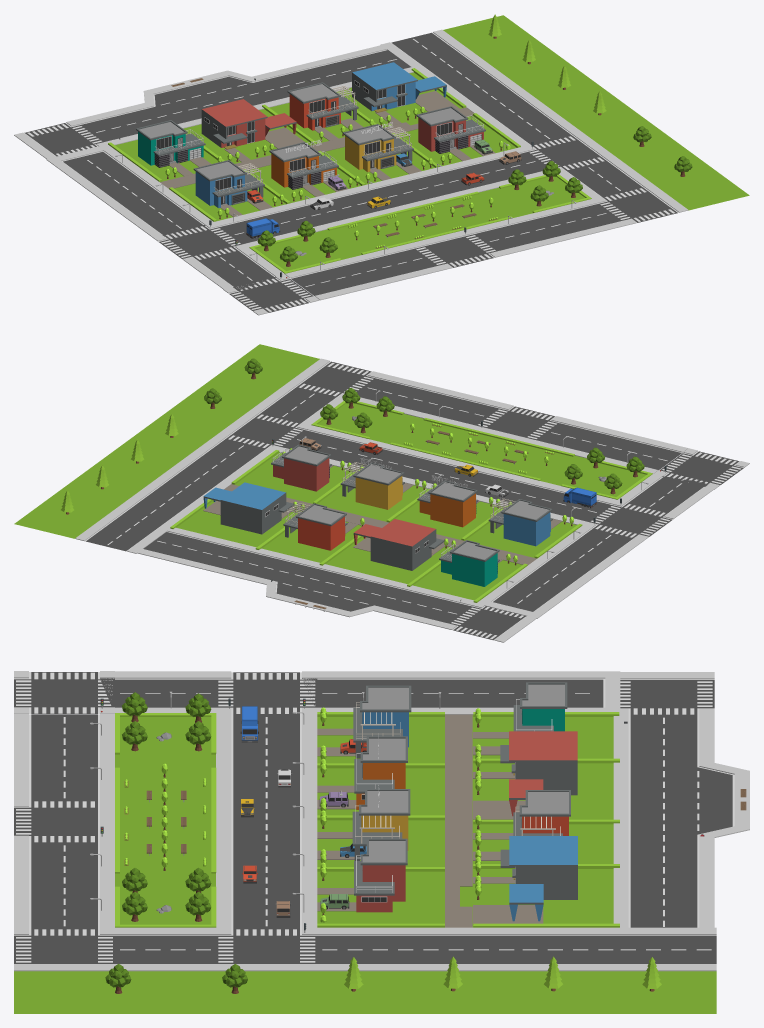
File: Scene_Street.obj
3 views of the same model, one above another, from view 1: azimuth 30°, elevation 25°; view 2: azimuth 150°, elevation 25°; view 3: azimuth 270°, elevation 25° (orthographic). The views are drawn at different scales.
Parts seen in each view (by area): view 1: Road_Lane_Bus_Stop_001, Building_House_04_color03_002, Building_House_04_color01_001, Building_House_01_color01_002, Building_House_01_color03_001, Building_House_01_color02_001, Building_House_02_color01_002, Building_House_02_color03_002, Building_House_02_color02_002, Road_Lane_01_064, Road_Lane_01_061, Road_Lane_01_062 (+45 smaller); view 2: Road_Lane_Bus_Stop_001, Building_House_04_color03_002, Building_House_04_color01_001, Building_House_01_color01_002, Building_House_01_color02_001, Building_House_01_color03_001, Road_Lane_01_080, Road_Lane_01_081, Road_Lane_01_078, Road_Lane_01_088, Road_Lane_01_089, Road_Lane_04_002 (+51 smaller); view 3: Road_Lane_Bus_Stop_001, Building_House_04_color01_001, Building_House_04_color03_002, Road_Lane_01_086, Road_Lane_01_087, Road_Lane_01_077, Road_Lane_01_080, Road_Lane_01_081, Road_T_Intersection_01_006, Road_T_Intersection_01_011, Road_Lane_01_063, Road_Lane_01_094 (+52 smaller).
Part boxes in pixels (x1,y1,x2,y2): Road_Lane_Bus_Stop_001: [137, 70, 289, 128]; Building_House_04_color03_002: [201, 99, 296, 149]; Building_House_04_color01_001: [352, 62, 446, 112]; Building_House_01_color01_002: [193, 160, 264, 208]; Building_House_01_color03_001: [287, 82, 358, 130]; Building_House_01_color02_001: [342, 124, 413, 172]; Building_House_02_color01_002: [136, 120, 205, 167]; Building_House_02_color03_002: [269, 142, 338, 189]; Building_House_02_color02_002: [416, 106, 485, 153]; Road_Lane_01_064: [285, 259, 381, 300]; Road_Lane_01_061: [531, 199, 627, 240]; Road_Lane_01_062: [469, 214, 565, 255]; Road_Lane_Bus_Stop_001: [259, 556, 416, 617]; Building_House_04_color03_002: [353, 519, 444, 570]; Building_House_04_color01_001: [203, 482, 294, 534]; Building_House_01_color01_002: [488, 498, 552, 546]; Building_House_01_color02_001: [340, 462, 404, 509]; Building_House_01_color03_001: [283, 502, 347, 550]; Road_Lane_01_080: [381, 586, 475, 627]; Road_Lane_01_081: [197, 541, 293, 582]; Road_Lane_01_078: [618, 474, 714, 514]; Road_Lane_01_088: [512, 552, 607, 592]; Road_Lane_01_089: [548, 526, 643, 566]; Road_Lane_04_002: [476, 577, 572, 618]; Road_Lane_Bus_Stop_001: [613, 757, 749, 843]; Building_House_04_color01_001: [500, 836, 577, 921]; Building_House_04_color03_002: [500, 731, 577, 816]; Road_Lane_01_086: [317, 927, 418, 971]; Road_Lane_01_087: [418, 927, 519, 971]; Road_Lane_01_077: [115, 927, 215, 971]; Road_Lane_01_080: [613, 714, 714, 758]; Road_Lane_01_081: [613, 842, 714, 886]; Road_T_Intersection_01_006: [14, 927, 114, 971]; Road_T_Intersection_01_011: [216, 927, 317, 971]; Road_Lane_01_063: [14, 756, 114, 800]; Road_Lane_01_094: [517, 927, 618, 971].
Bounding box in the file's own units: 492 × 45.83 × 448.
Materials: 22 (21 with a texture image).
